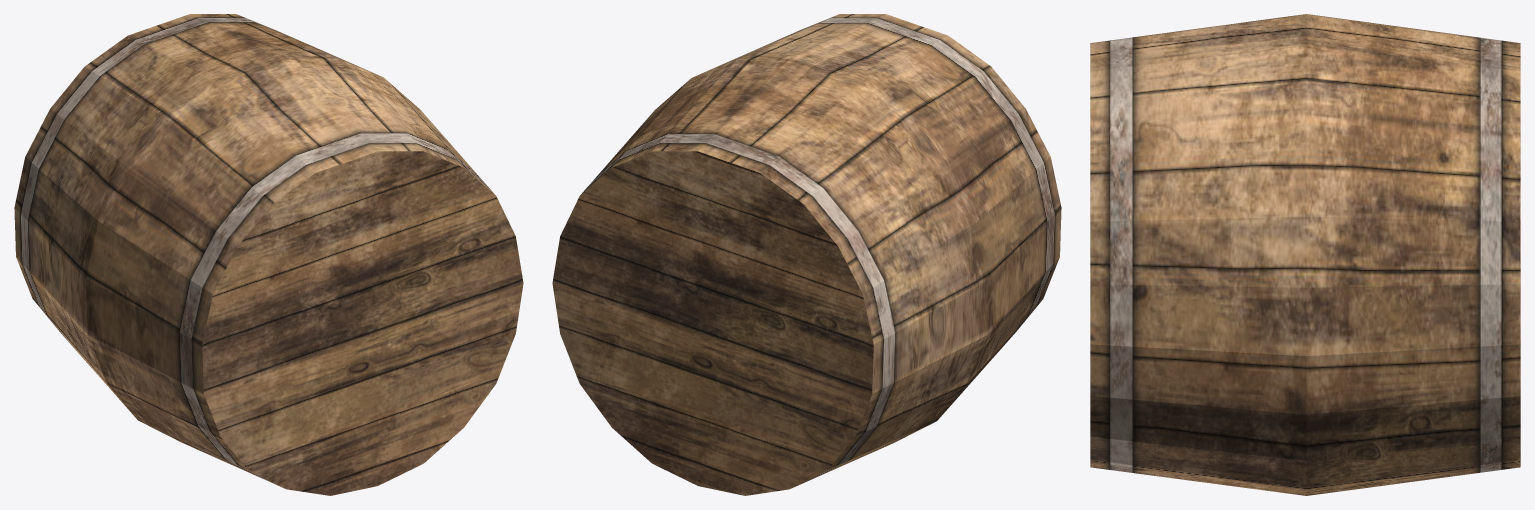
The model's file is Barrel.dae.
3 views of the same model, side by side, from view 1: azimuth 30°, elevation 25°; view 2: azimuth 150°, elevation 25°; view 3: azimuth 270°, elevation 25° (orthographic). The views are drawn at different scales.
Parts seen in each view (by area): view 1: Barrel; view 2: Barrel; view 3: Barrel.
Part boxes in pixels (<box>): Barrel: <box>14,14,523,495</box>; Barrel: <box>552,14,1061,495</box>; Barrel: <box>1090,14,1520,495</box>.
Size of the model in its own units: 1.33 by 1.18 by 1.32.
Materials: 1 (1 with a texture image).
